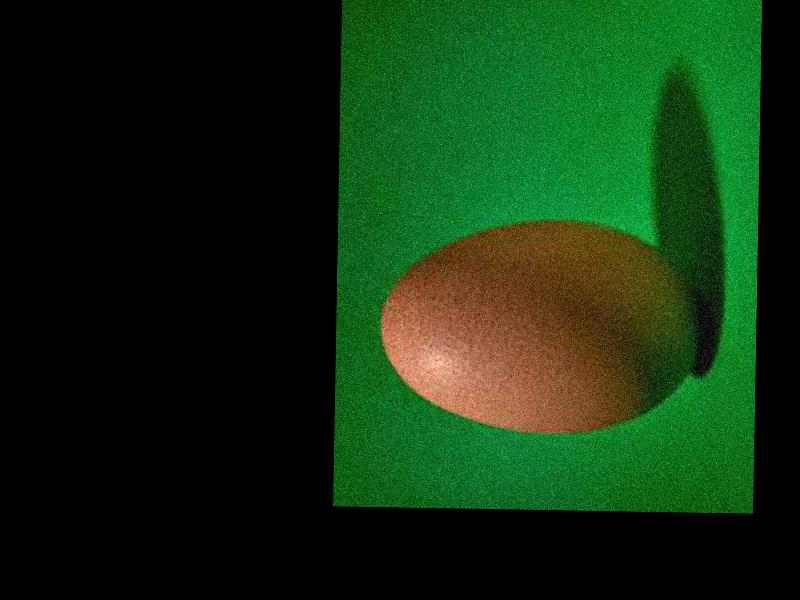Eggs: (380, 217, 703, 436)
